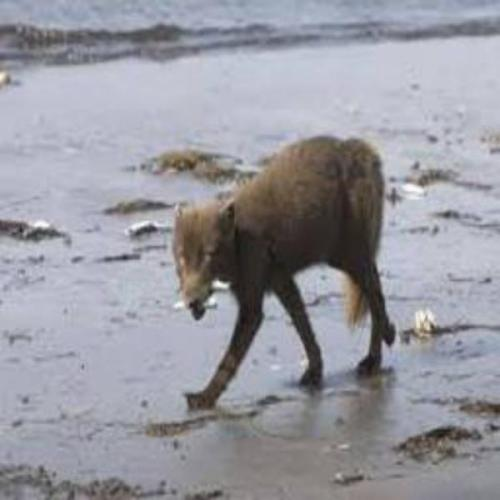arctic_fox-endangered: (170, 139, 396, 409)
